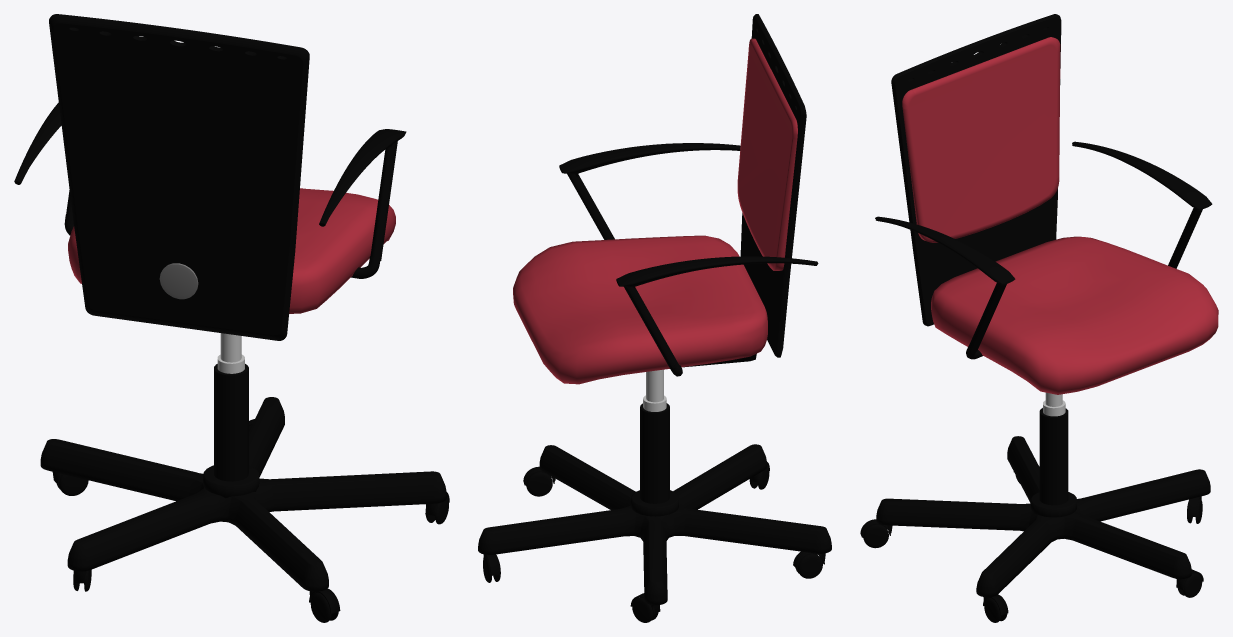
The model's file is chair.FBX.
The picture shows the model from 3 angles, left to right: view 1: azimuth 30°, elevation 25°; view 2: azimuth 150°, elevation 25°; view 3: azimuth 270°, elevation 25°; orthographic projection. The views are drawn at different scales.
Parts seen in each view (by area): view 1: Color007.18, Silla-ejecutiva, Box08, Loft70, Loft69, Cylinder87, Loft72; view 2: Box08, Silla-ejecutiva, Rectangle53, Color007.18, Loft72, Loft70, Loft71, Loft69, llanta57, llanta67; view 3: Box08, Rectangle53, Silla-ejecutiva, Color007.18, Loft72, Loft70, Loft69, Loft71, llanta70.
Part boxes in pixels (x1,y1,x2,y2): Color007.18: (49, 14, 309, 340); Silla-ejecutiva: (40, 333, 446, 591); Box08: (68, 188, 395, 313); Loft70: (319, 129, 406, 225); Loft69: (319, 141, 397, 278); Cylinder87: (159, 263, 198, 299); Loft72: (14, 102, 61, 183); Box08: (513, 235, 767, 384); Silla-ejecutiva: (478, 369, 831, 605); Rectangle53: (737, 38, 797, 270); Color007.18: (740, 14, 806, 357); Loft72: (616, 256, 818, 287); Loft70: (559, 143, 740, 173); Loft71: (624, 263, 816, 376); Loft69: (567, 149, 740, 239); llanta57: (526, 472, 552, 496); llanta67: (798, 554, 822, 578); Box08: (931, 236, 1218, 394); Rectangle53: (902, 37, 1060, 242); Silla-ejecutiva: (876, 392, 1210, 597); Color007.18: (891, 14, 1061, 326); Loft72: (1072, 141, 1212, 209); Loft70: (875, 216, 1015, 284); Loft69: (876, 219, 1006, 359); Loft71: (1072, 144, 1202, 268); llanta70: (863, 524, 888, 548).
Size of the model in its own units: 724 by 1007 by 696.
